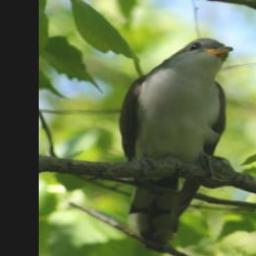Cuckoo: (116, 36, 234, 250)
